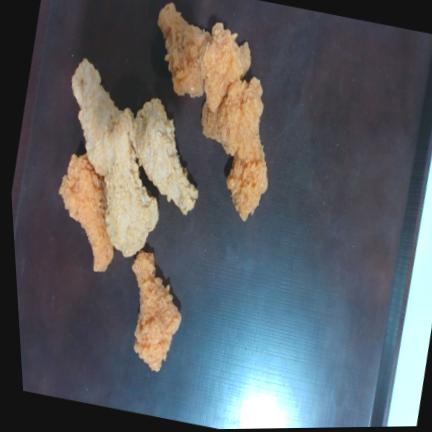chicken: (105, 109, 159, 257), (133, 98, 198, 215), (59, 154, 114, 271), (72, 59, 124, 176), (132, 250, 181, 371), (158, 3, 211, 97), (200, 22, 251, 112), (202, 77, 263, 146), (227, 133, 268, 221)
